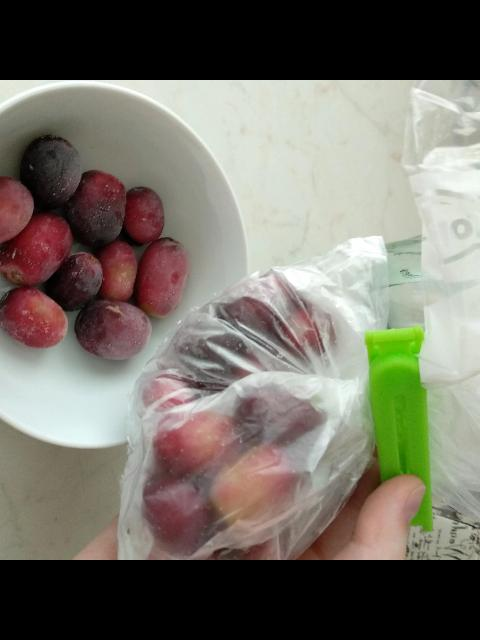Grapes: (138, 237, 190, 321), (22, 134, 86, 200), (76, 302, 150, 358), (5, 219, 69, 283), (0, 287, 68, 347), (77, 172, 124, 240), (94, 240, 138, 298), (125, 185, 167, 239), (0, 179, 33, 240)
